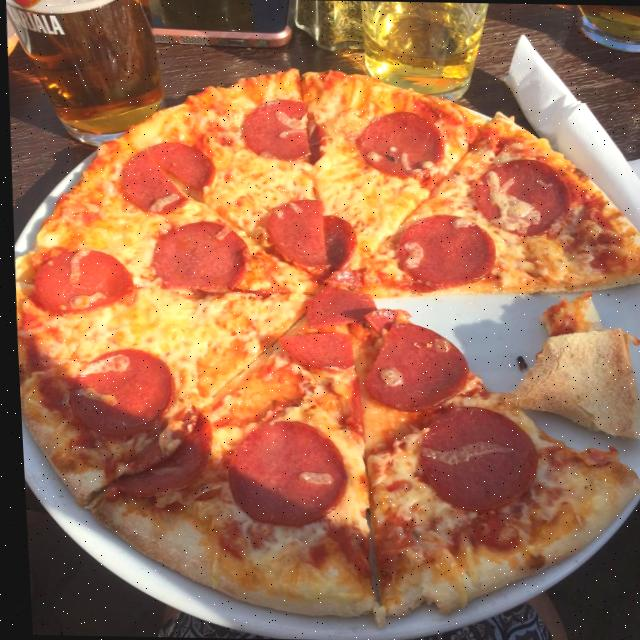pepperoni: (220, 414, 346, 526), (409, 404, 535, 514), (353, 322, 470, 416), (61, 342, 177, 436), (102, 406, 215, 499), (259, 195, 361, 288), (142, 218, 250, 296), (112, 138, 216, 218), (467, 158, 570, 238), (392, 212, 495, 288), (26, 247, 136, 314), (351, 110, 447, 180), (234, 96, 327, 164), (267, 331, 356, 370), (300, 288, 382, 328)
pizza: (3, 63, 640, 628)
